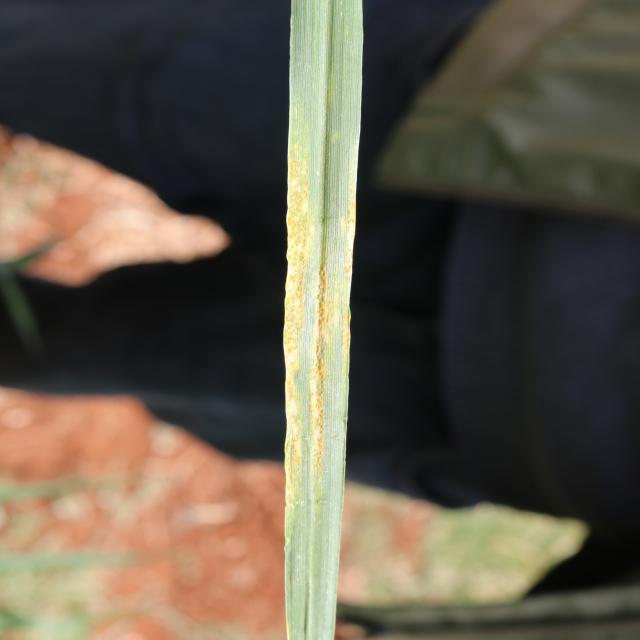Stripe Rust: (285, 149, 314, 402), (313, 253, 327, 480), (284, 405, 308, 508), (340, 184, 355, 284), (337, 306, 351, 376)
